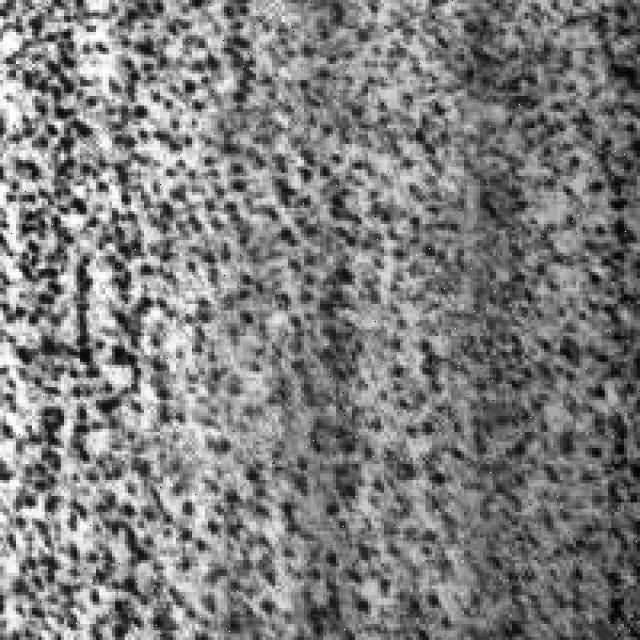Rolled_in_Scale: (9, 0, 624, 624)
